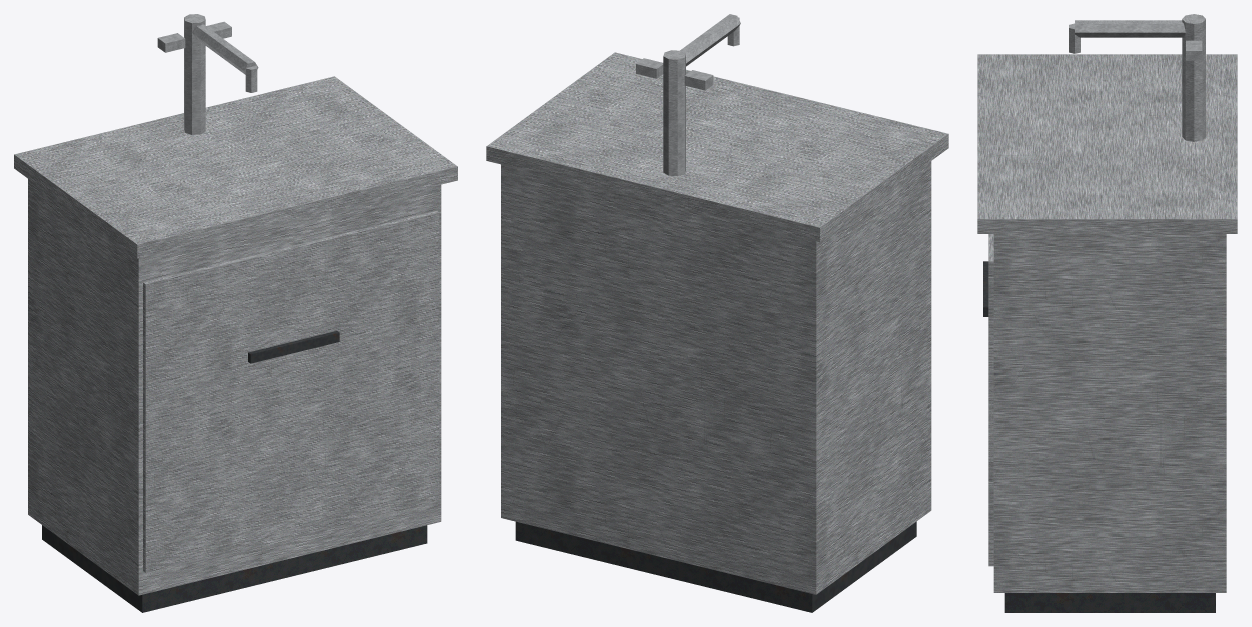
Rendered from sink.glb.
The picture shows the model from 3 angles, left to right: view 1: azimuth 30°, elevation 25°; view 2: azimuth 150°, elevation 25°; view 3: azimuth 270°, elevation 25°; orthographic projection. The views are drawn at different scales.
Parts seen in each view (by area): view 1: sink; view 2: sink; view 3: sink.
Boxes of the visible parts, <box> form: sink: <box>14,14,457,612</box>; sink: <box>486,14,948,612</box>; sink: <box>977,14,1237,612</box>.
Bounding box in the file's own units: 0.72 × 1.06 × 0.48.
Materials: 2 (2 with a texture image).
